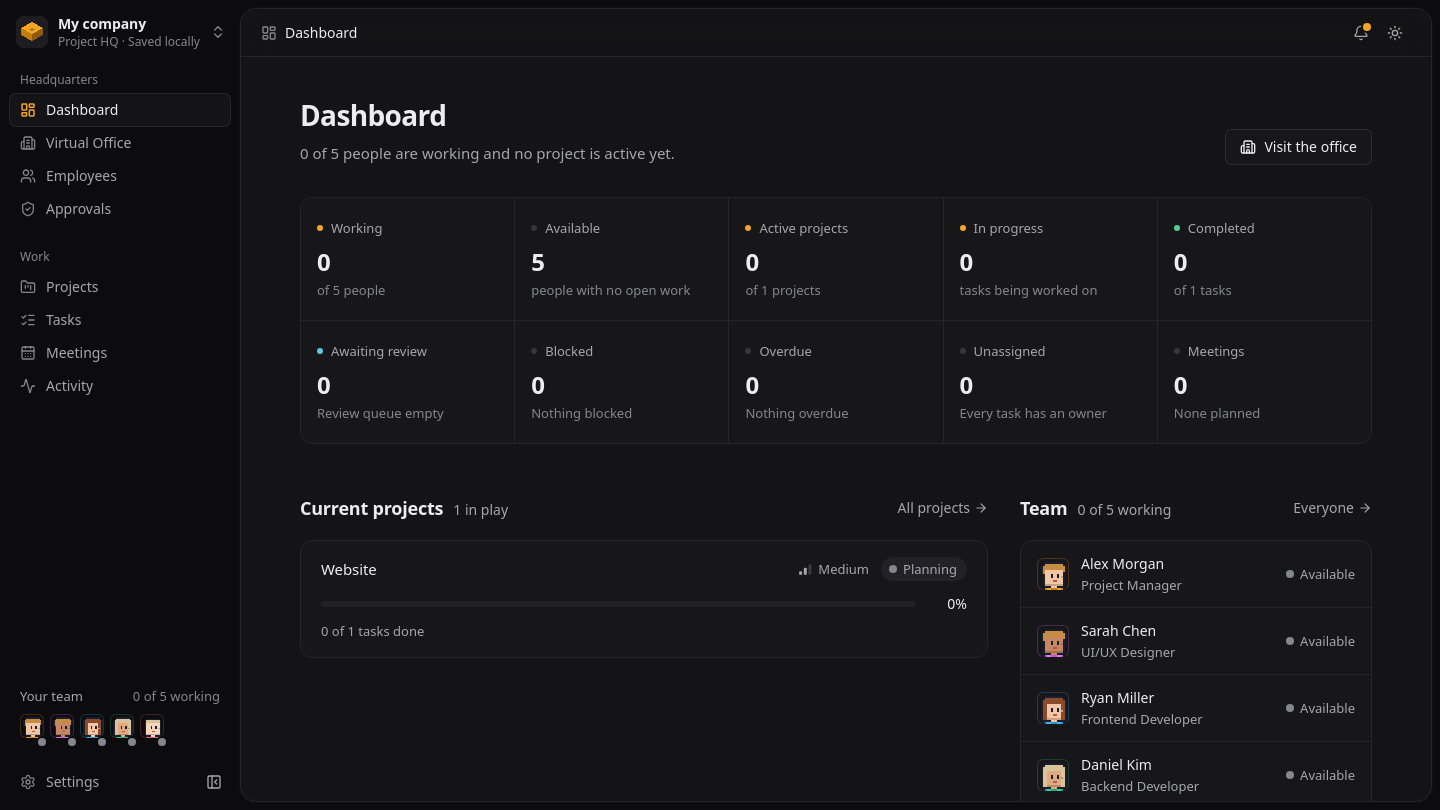
notifications (Phase 1.7) › opens what a notification is about and marks only that one as read
Click the button named "Notifications".
click(1361, 32)  # box [1345, 16, 1377, 48]
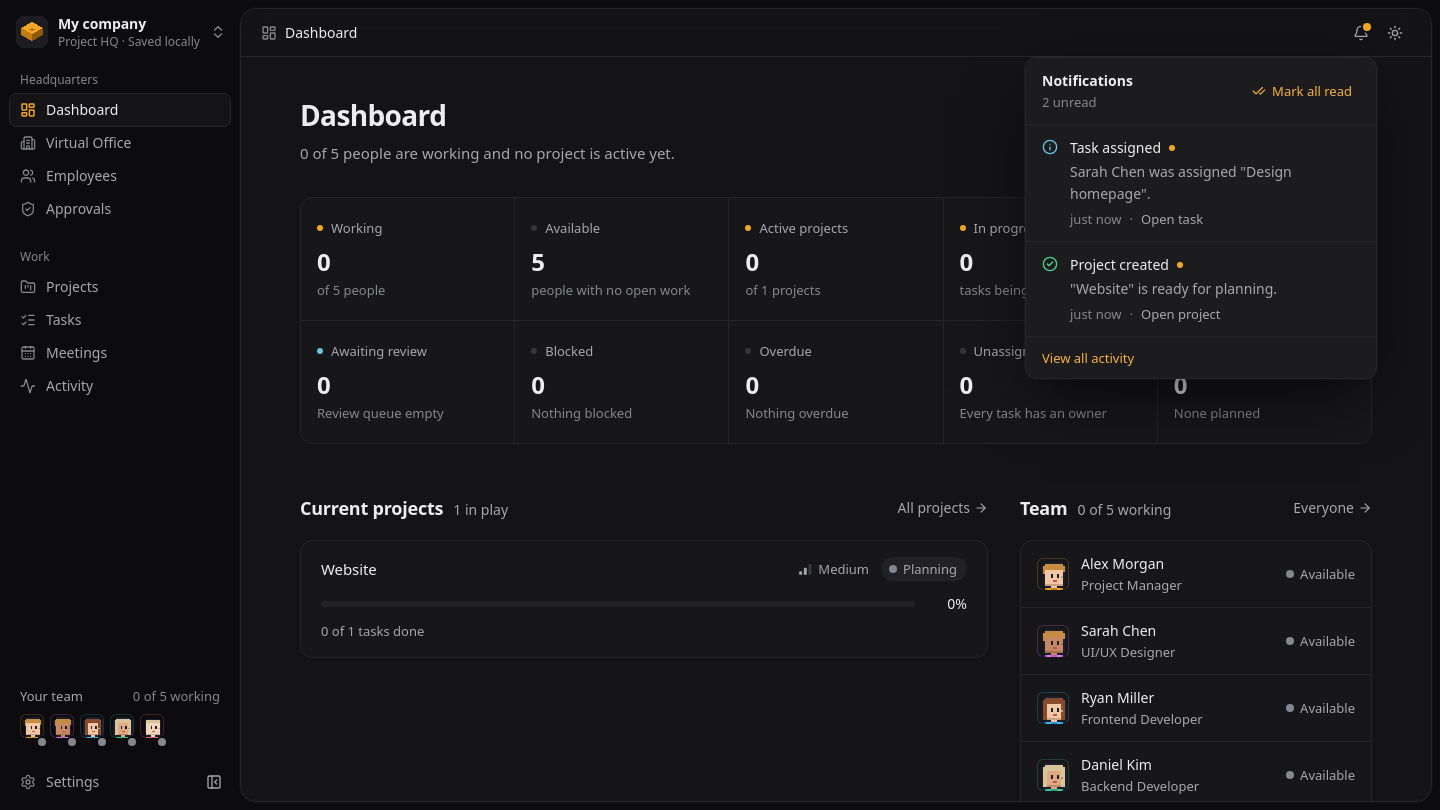
Click the button "Sarah Chen was assigned \"Design homepage\"".
click(1201, 182)  # box [1026, 124, 1376, 240]
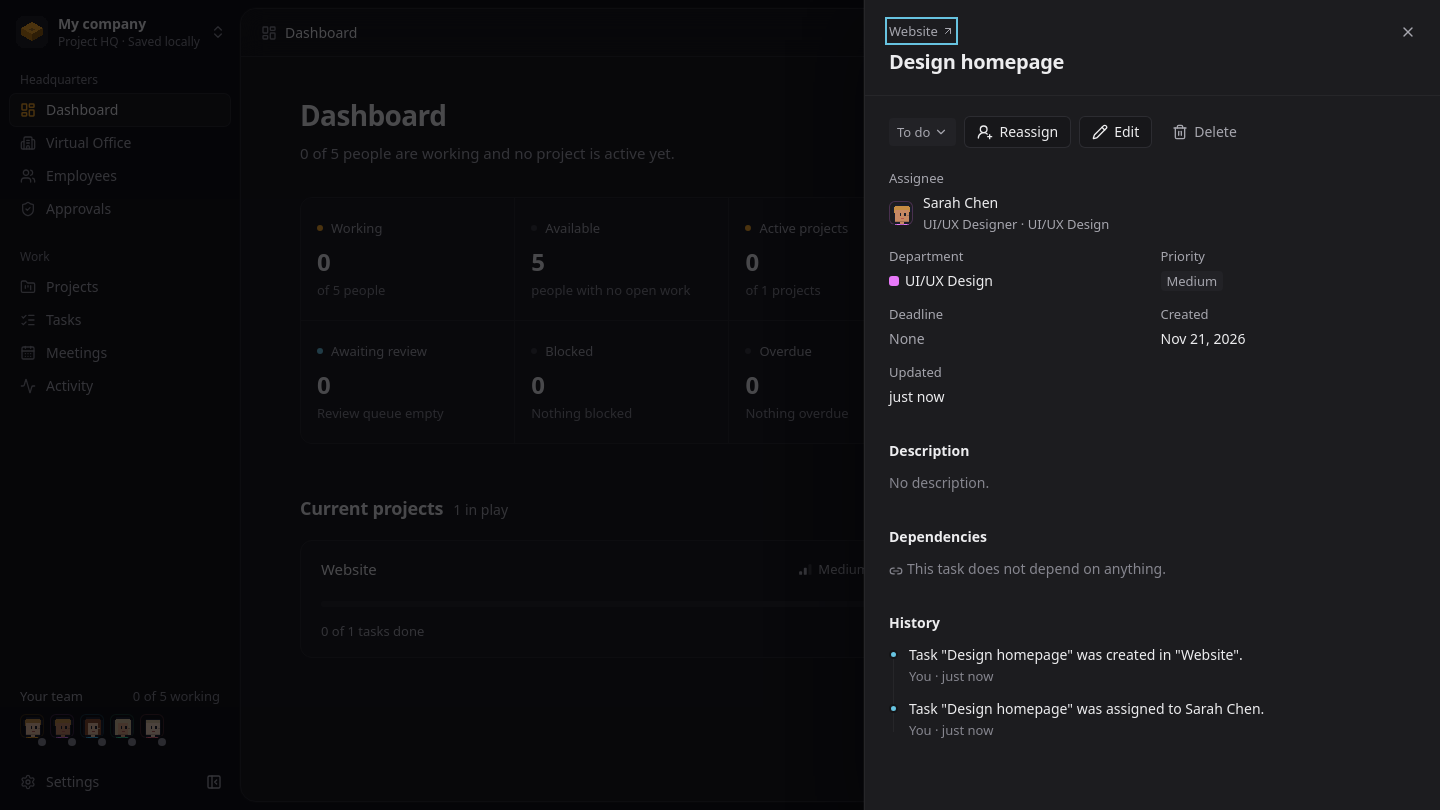
Result: the dialog "Design homepage" is shown at [864, 0, 1439, 809]
